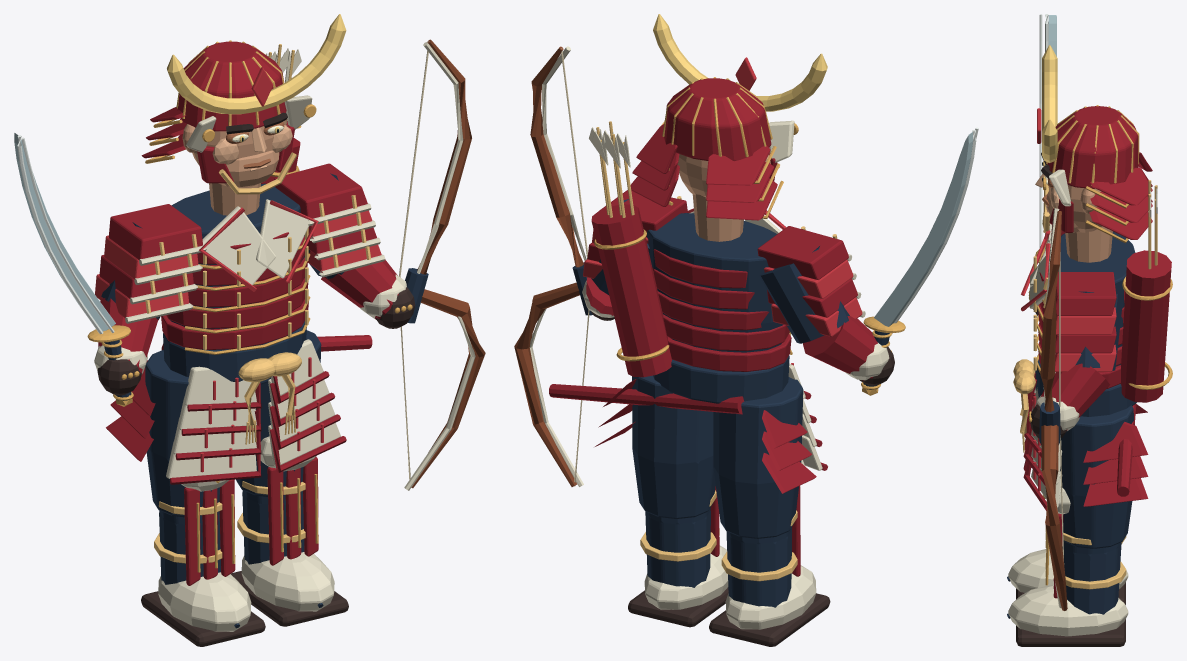
The model's file is samurai.glb.
3 renders of one model, left to right at view 1: azimuth 30°, elevation 25°; view 2: azimuth 150°, elevation 25°; view 3: azimuth 270°, elevation 25°, orthographic. The views are drawn at different scales.
Visible parts, largest first — view 1: Samurai — garnet lacquer mesh.002, Samurai — ivory lamellar mesh.002, Samurai — garnet lacquer mesh.005, Samurai — indigo silk mesh, Samurai — garnet lacquer mesh.003, Samurai — garnet lacquer mesh.004, Samurai — indigo silk mesh.002, Samurai — ivory lamellar mesh.001, Samurai — polished red yew mesh, Samurai — ivory lamellar mesh, Polished gold edge mesh, Samurai — silk braid mesh.002 (+27 smaller); view 2: Samurai — garnet lacquer mesh.002, Samurai — indigo silk mesh, Samurai — garnet lacquer mesh.005, Samurai — indigo silk mesh.001, Samurai — indigo silk mesh.002, Samurai — garnet lacquer mesh.003, Samurai — polished red yew mesh, Moon silver mesh, Samurai — indigo silk mesh.003, Polished gold edge mesh, Samurai — ivory lamellar mesh, Samurai — warm face mesh (+16 smaller); view 3: Samurai — garnet lacquer mesh.002, Samurai — indigo silk mesh.001, Samurai — garnet lacquer mesh.005, Samurai — garnet lacquer mesh.004, Samurai — polished red yew mesh, Samurai — ivory lamellar mesh.001, Samurai — indigo silk mesh.002, Samurai — warm face mesh, Samurai — silk braid mesh.002, Samurai — lacquer bevel mesh.002, Polished gold edge mesh, Weathered dark leather mesh.001 (+15 smaller).
Part boxes in pixels (x1=…): Samurai — garnet lacquer mesh.002: x1=106, y1=138, x2=372, y2=484; Samurai — ivory lamellar mesh.002: x1=166, y1=48, x2=340, y2=478; Samurai — garnet lacquer mesh.005: x1=141, y1=41, x2=294, y2=183; Samurai — indigo silk mesh: x1=145, y1=350, x2=239, y2=628; Samurai — garnet lacquer mesh.003: x1=98, y1=204, x2=202, y2=373; Samurai — garnet lacquer mesh.004: x1=274, y1=163, x2=398, y2=319; Samurai — indigo silk mesh.002: x1=163, y1=183, x2=306, y2=384; Samurai — ivory lamellar mesh.001: x1=241, y1=436, x2=334, y2=611; Samurai — polished red yew mesh: x1=411, y1=39, x2=485, y2=488; Samurai — ivory lamellar mesh: x1=158, y1=480, x2=251, y2=631; Polished gold edge mesh: x1=167, y1=14, x2=346, y2=142; Samurai — silk braid mesh.002: x1=203, y1=44, x2=308, y2=444; Samurai — garnet lacquer mesh.002: x1=549, y1=204, x2=827, y2=493; Samurai — indigo silk mesh: x1=713, y1=377, x2=803, y2=607; Samurai — garnet lacquer mesh.005: x1=630, y1=78, x2=777, y2=220; Samurai — indigo silk mesh.001: x1=632, y1=375, x2=715, y2=587; Samurai — indigo silk mesh.002: x1=647, y1=213, x2=789, y2=403; Samurai — garnet lacquer mesh.003: x1=757, y1=226, x2=877, y2=380; Samurai — polished red yew mesh: x1=514, y1=46, x2=583, y2=486; Moon silver mesh: x1=874, y1=132, x2=973, y2=326; Samurai — indigo silk mesh.003: x1=759, y1=246, x2=849, y2=343; Polished gold edge mesh: x1=653, y1=14, x2=827, y2=111; Samurai — ivory lamellar mesh: x1=725, y1=460, x2=816, y2=629; Samurai — warm face mesh: x1=677, y1=154, x2=770, y2=241; Samurai — garnet lacquer mesh.002: x1=1023, y1=250, x2=1171, y2=510; Samurai — indigo silk mesh.001: x1=1007, y1=405, x2=1133, y2=618; Samurai — garnet lacquer mesh.005: x1=1047, y1=106, x2=1152, y2=239; Samurai — garnet lacquer mesh.004: x1=1036, y1=272, x2=1116, y2=430; Samurai — polished red yew mesh: x1=1040, y1=211, x2=1067, y2=610; Samurai — ivory lamellar mesh.001: x1=1008, y1=488, x2=1128, y2=636; Samurai — indigo silk mesh.002: x1=1035, y1=231, x2=1136, y2=416; Samurai — warm face mesh: x1=1046, y1=185, x2=1112, y2=262; Samurai — silk braid mesh.002: x1=1013, y1=180, x2=1157, y2=452; Samurai — lacquer bevel mesh.002: x1=1055, y1=307, x2=1116, y2=371; Polished gold edge mesh: x1=1042, y1=45, x2=1057, y2=178; Weathered dark leather mesh.001: x1=1016, y1=619, x2=1125, y2=646.
Size of the model in its own units: 2.03 by 2.42 by 0.6803.
